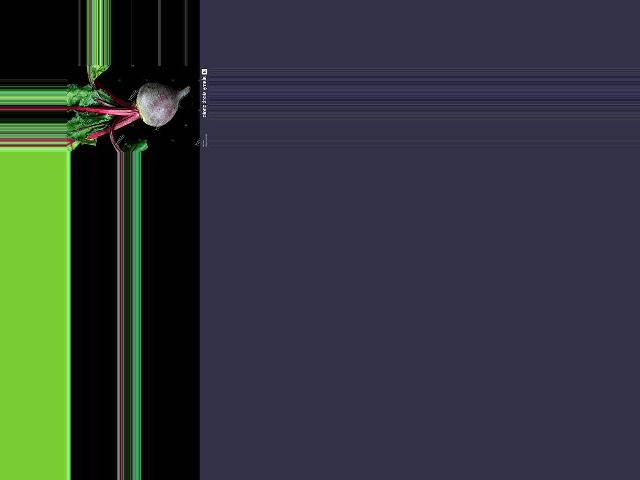beet: (66, 65, 190, 152)
